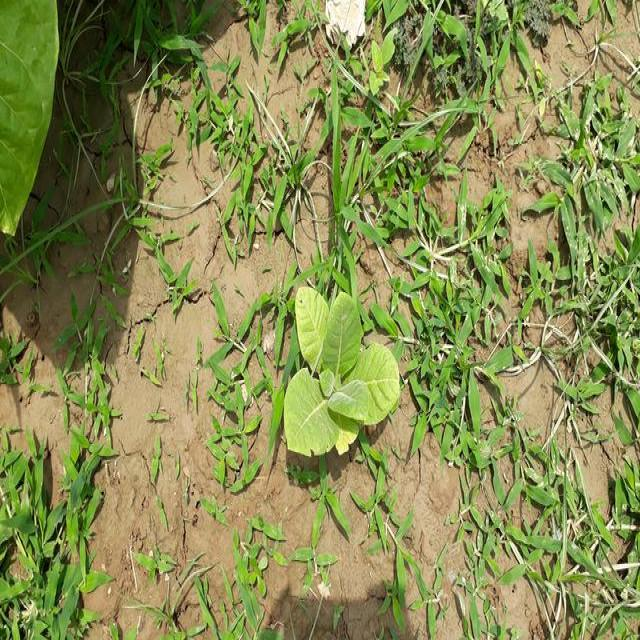crop: (273, 268, 409, 480)
